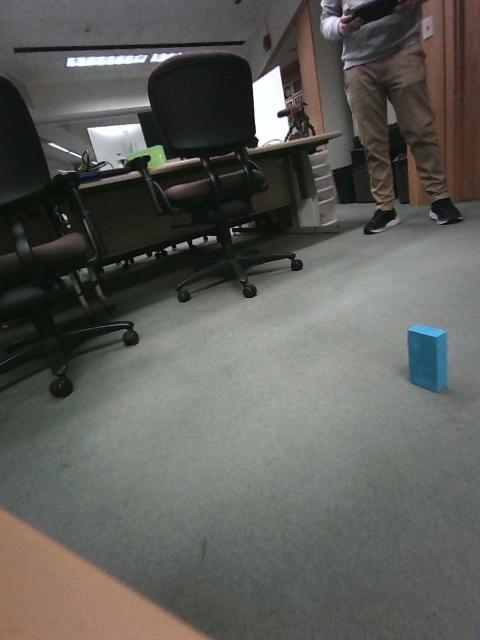block: (360, 301, 428, 350)
